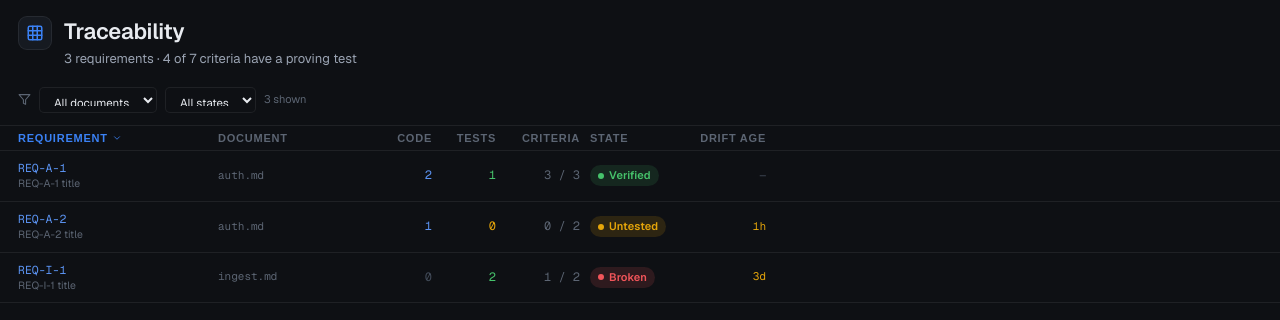
Test: TraceabilityPage (REQ-TVIZ-008) › A1: filters by document and by state
Expected: the text "REQ-A-1" is shown, [18,160,66,175]
Select "ingest.md" in the dropdown named "Filter by document" at (98, 100), box [39,87,157,113]
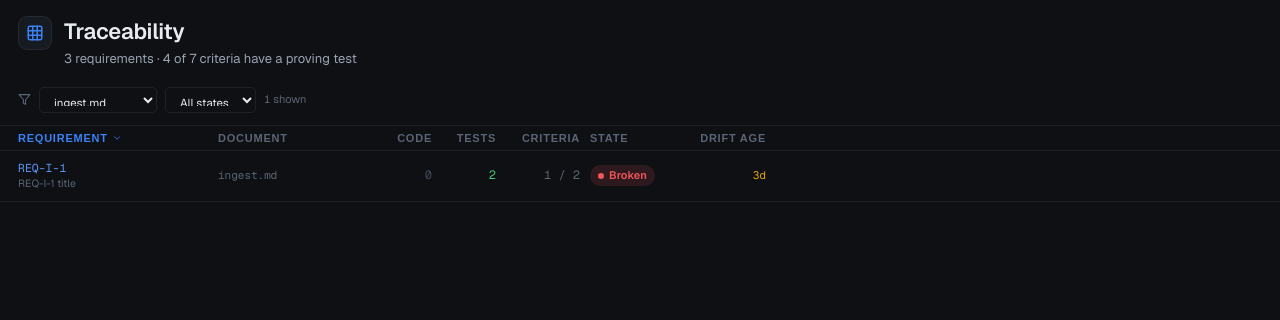
Expected: the text "REQ-I-1" is shown, [18,160,66,175]
Now the number of rows is 1, box [0,151,1279,202]
Select "All documents" in the dropdown named "Filter by document" at (98, 100), box [39,87,157,113]
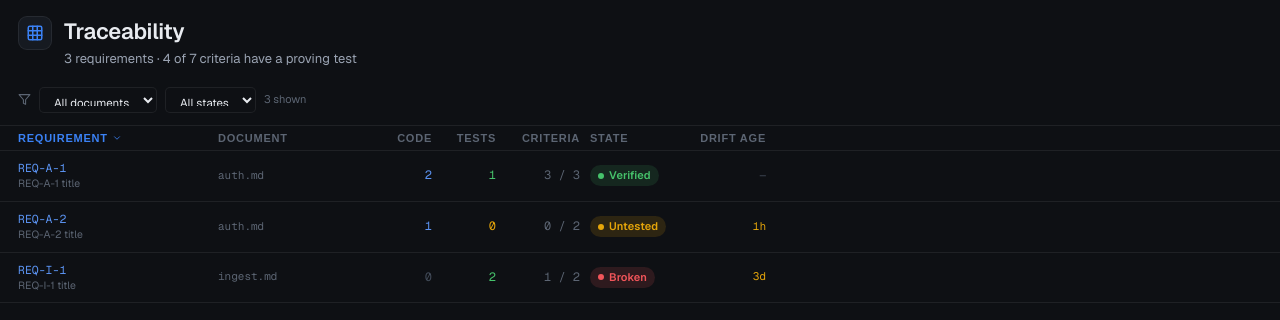
Select "Untested" in the dropdown named "Filter by state" at (210, 100), box [165,87,256,113]
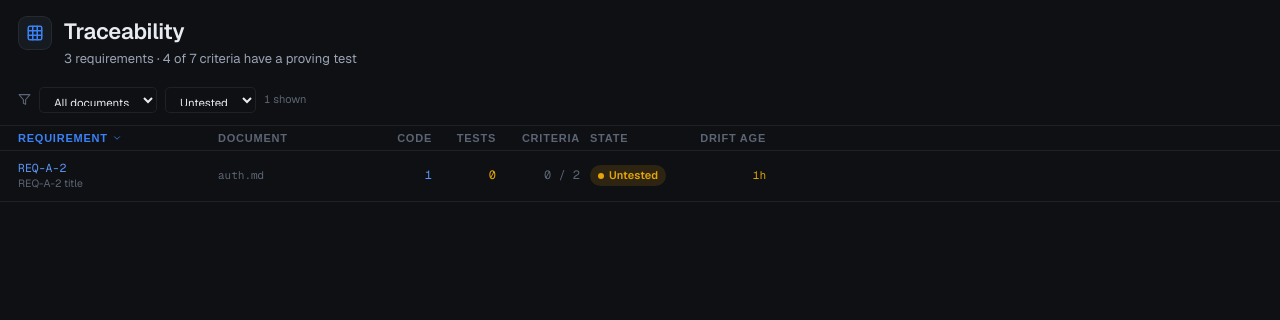
Now the text "REQ-A-2" is shown, box [18,160,66,175]
Now the number of rows is 1, box [0,151,1279,202]
A filter combination that matches nothing says so.
Select "ingest.md" in the dropdown named "Filter by document" at (98, 100), box [39,87,157,113]
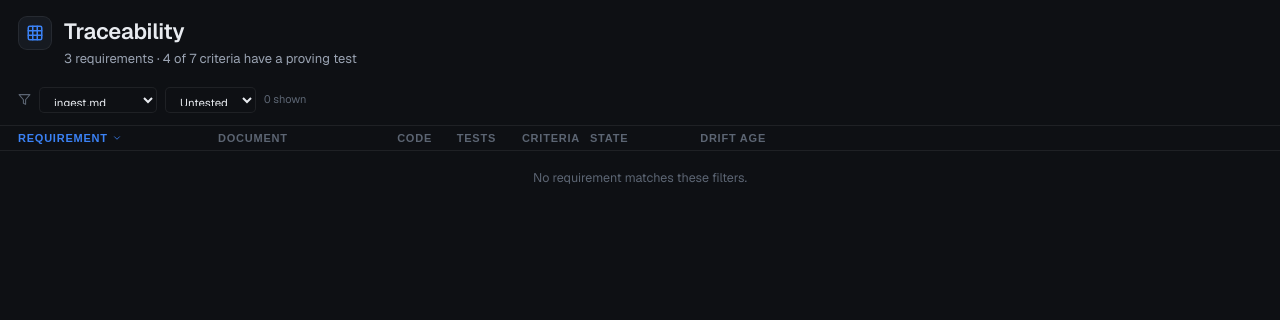
Now the text "No requirement matches these filters." is shown, box [533,169,747,186]
